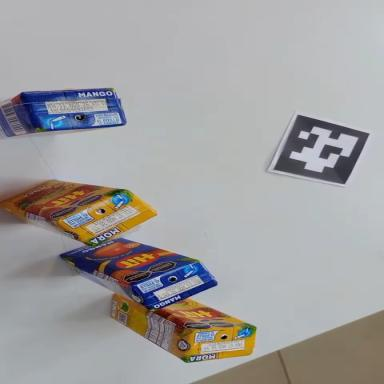HIT-MANGO: (52, 221, 222, 326), (0, 82, 127, 138)
HIT-MORA: (100, 272, 262, 384), (0, 173, 160, 253)
cara_F: (57, 222, 200, 302), (0, 171, 127, 230), (154, 288, 256, 352)
